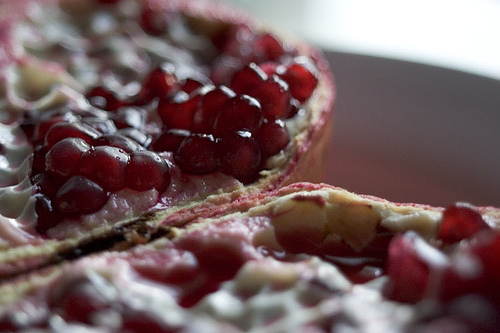pomogranate: (0, 1, 339, 277), (0, 179, 499, 332)
